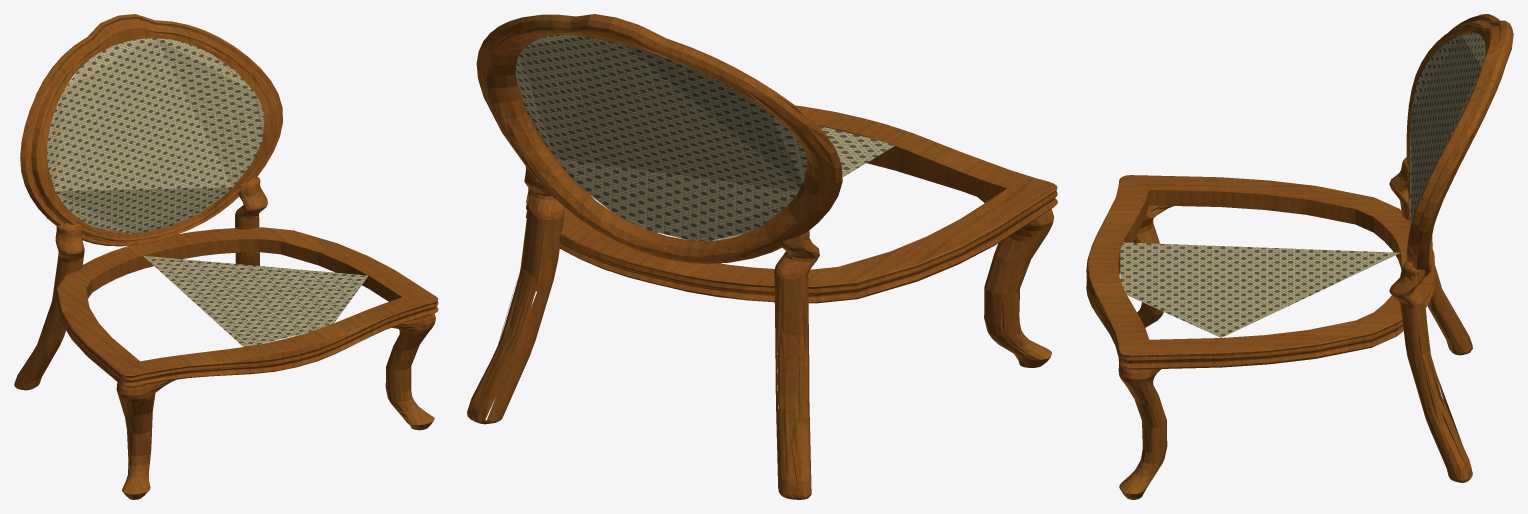
Rendered from sh-bs0-antique-chair.glb.
3 views of the same model, side by side, from view 1: azimuth 30°, elevation 25°; view 2: azimuth 150°, elevation 25°; view 3: azimuth 270°, elevation 25° (orthographic). The views are drawn at different scales.
Visible parts, largest first — view 1: Zitting_Plane.082; view 2: Zitting_Plane.082; view 3: Zitting_Plane.082.
Boxes of the visible parts, x1,y1,x2,y2 form: Zitting_Plane.082: (14,14,438,499); Zitting_Plane.082: (467,14,1057,499); Zitting_Plane.082: (1086,14,1513,499).
Size of the model in its own units: 0.9999 by 1 by 0.9996.
2 materials, 2 textured.
